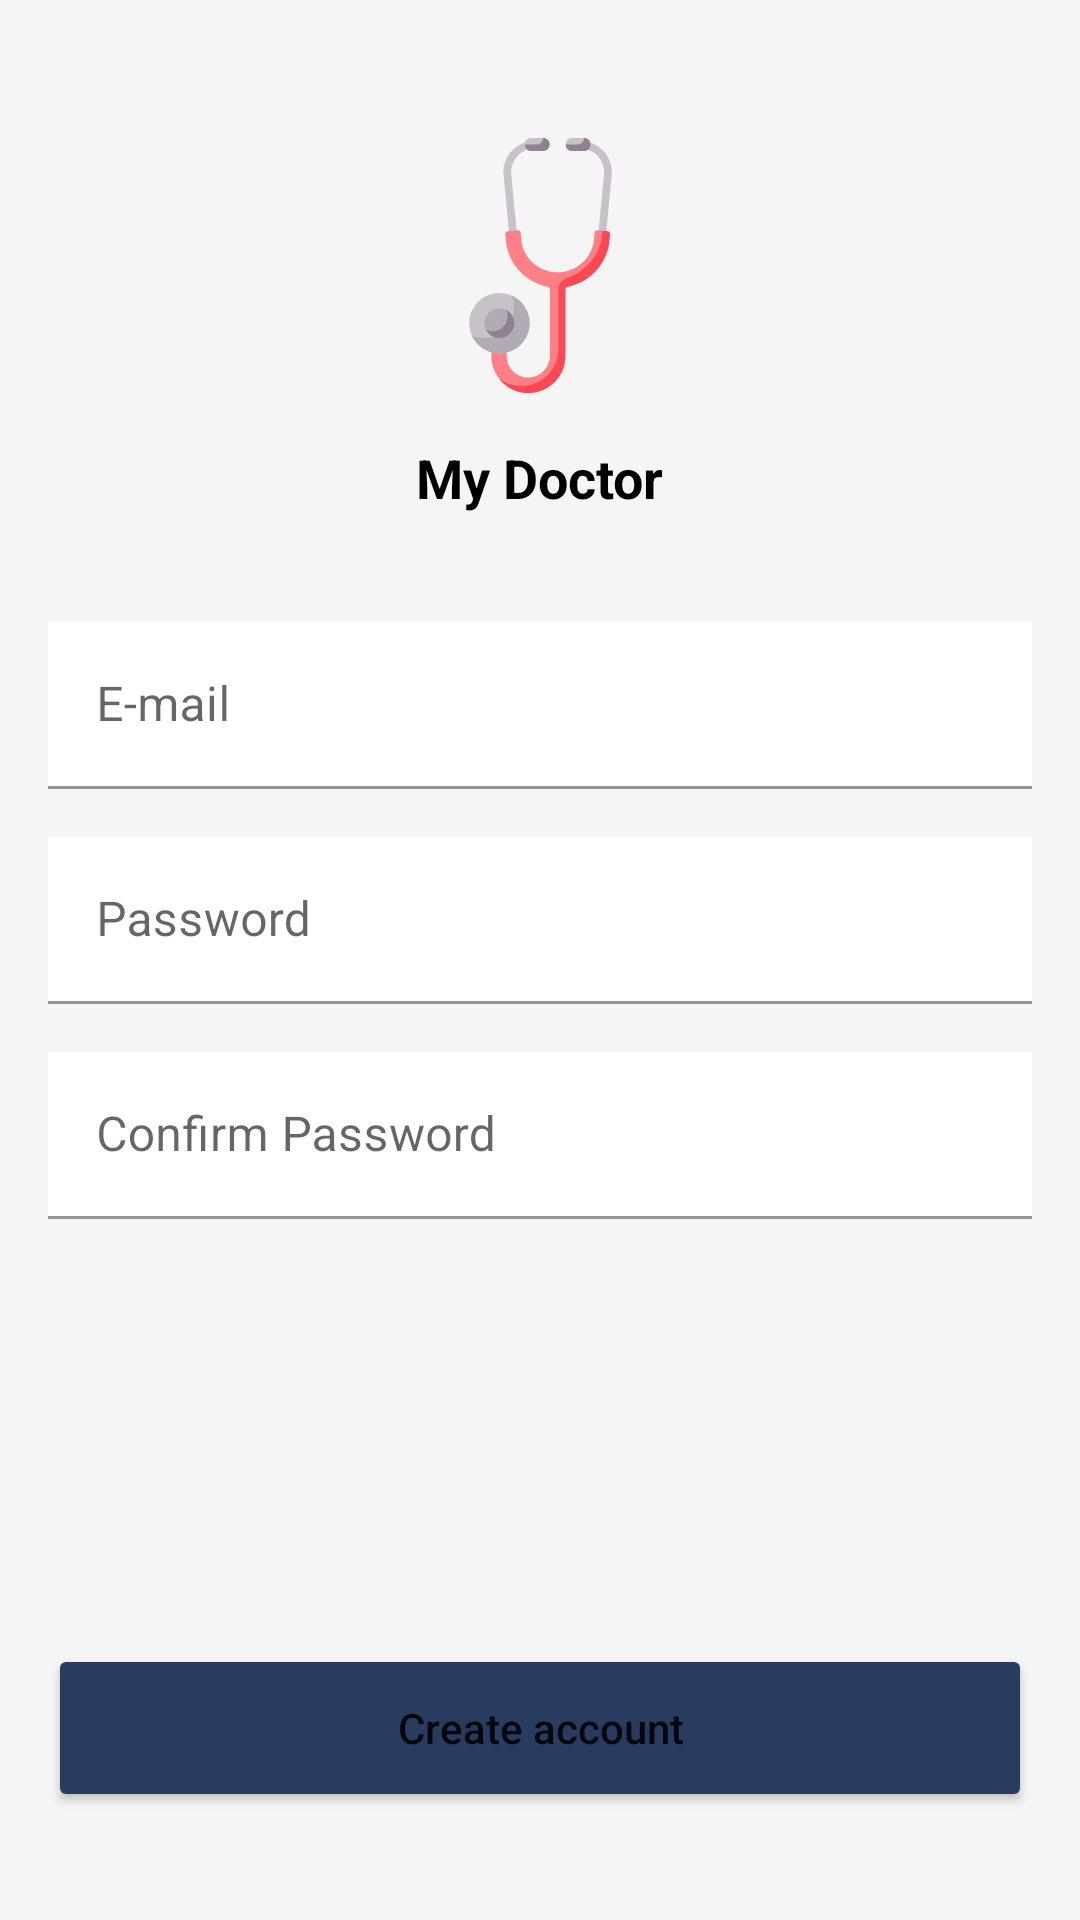

Screen size 1080 × 1920. Icon name, then its box in pixels as (x1, y1, x2, y2):
stethoscope: (469, 138, 612, 393)
